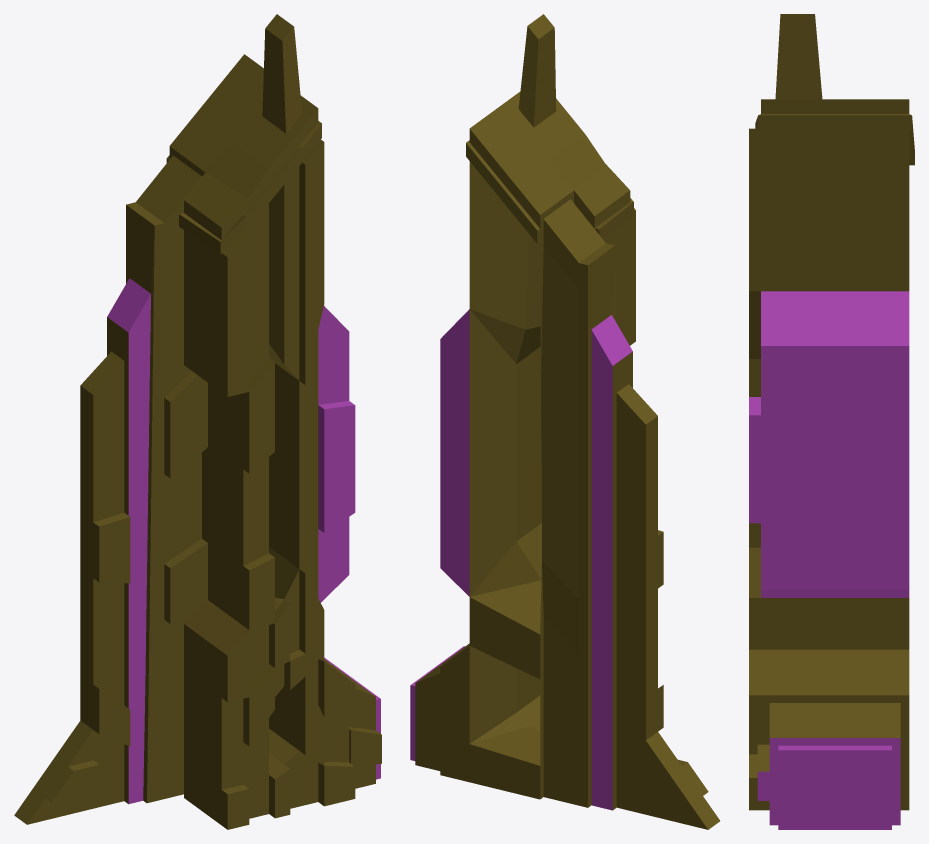
3 views of the same model, side by side, from view 1: azimuth 30°, elevation 25°; view 2: azimuth 150°, elevation 25°; view 3: azimuth 270°, elevation 25° (orthographic). The views are drawn at different scales.
Visible parts, largest first — view 1: Box001; view 2: Box001; view 3: Box001.
Boxes of the visible parts, x1,y1,x2,y2 form: Box001: (14, 14, 381, 829); Box001: (410, 14, 719, 829); Box001: (749, 14, 914, 829).
Bounding box in the file's own units: 88.12 × 208 × 40.33.
